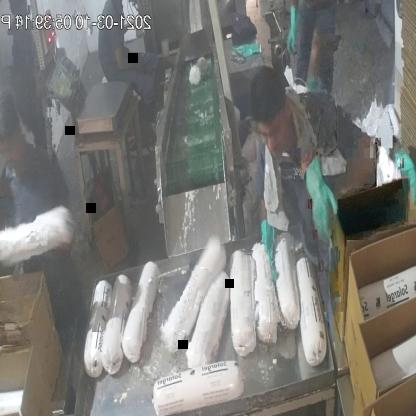glove: (300, 148, 339, 253)
